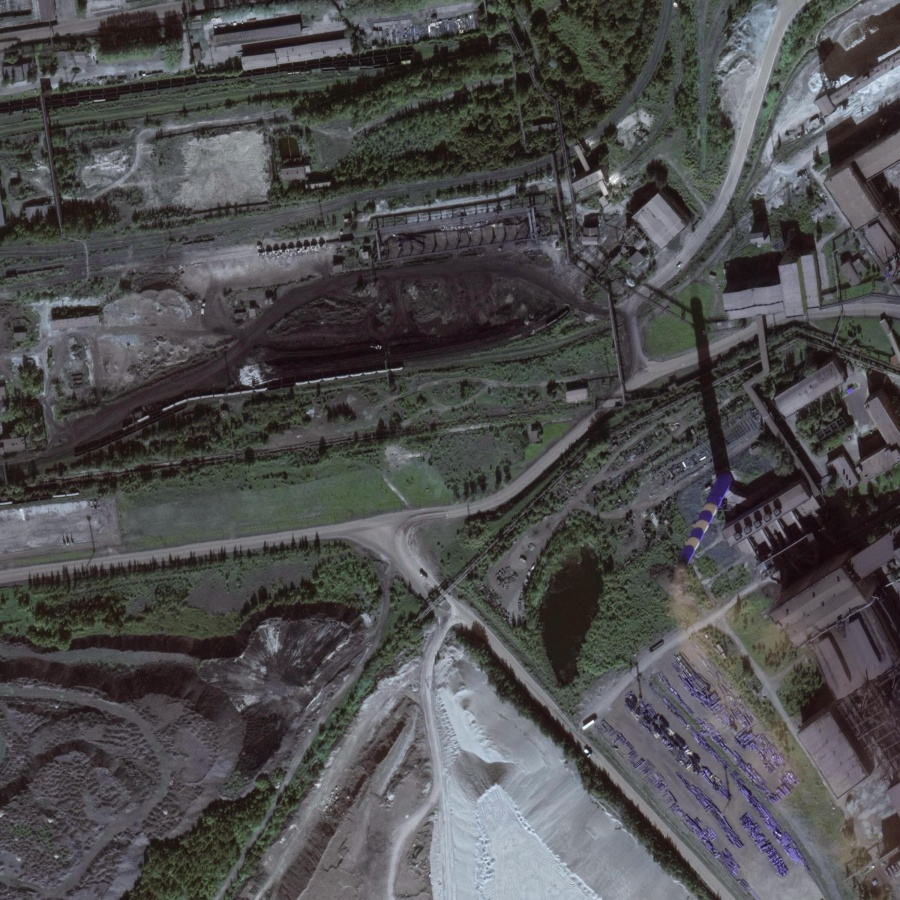PowerPlant: (138, 232, 578, 397)
